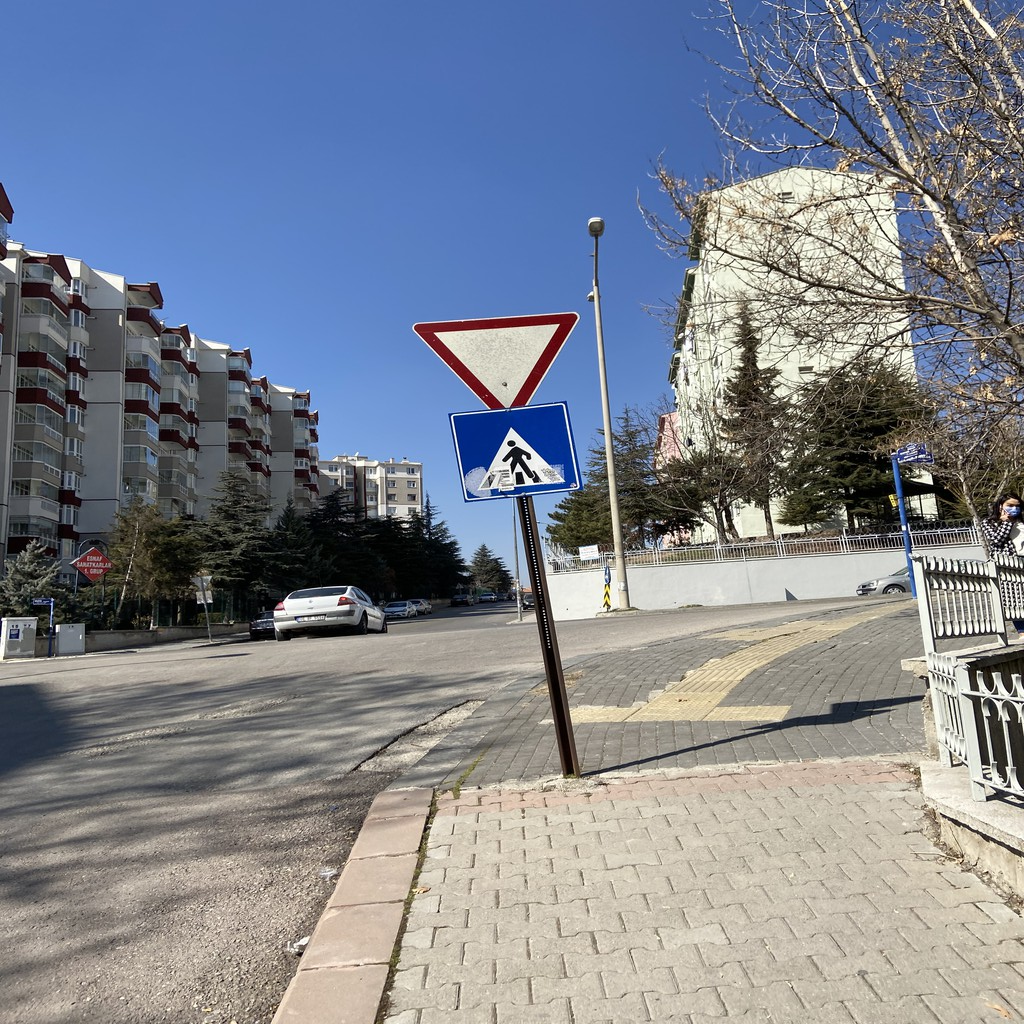Yaya Gecidi: (464, 415, 577, 494)
Yol Ver: (403, 314, 585, 407)
